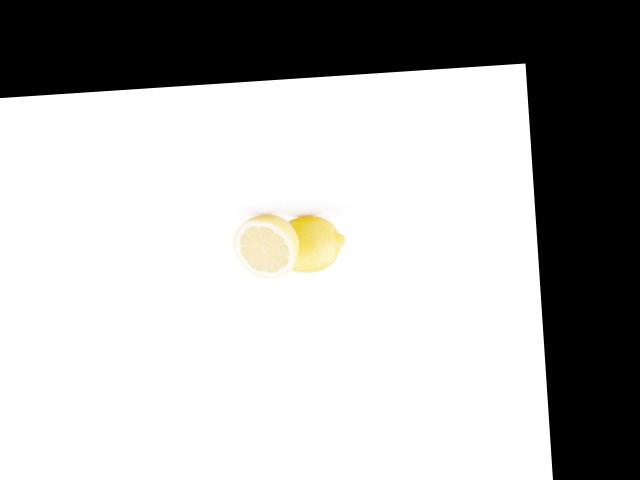lemon: (277, 206, 350, 278)
